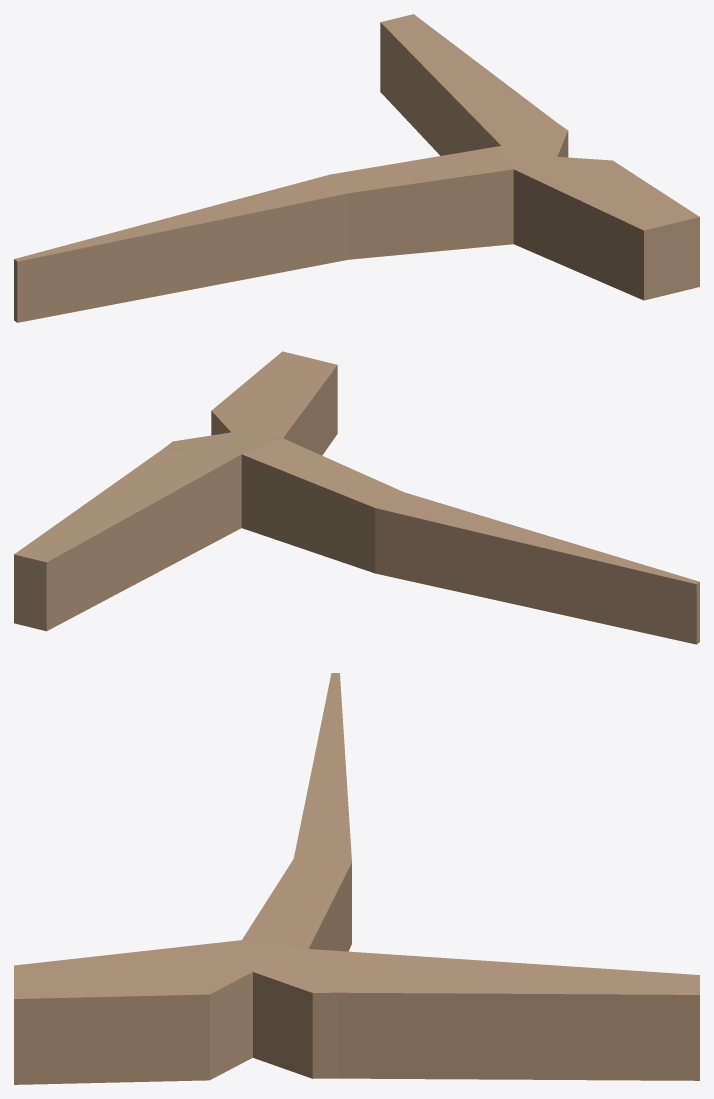
File: tBoneBone.fbx
The picture shows the model from 3 angles, top to bottom: view 1: azimuth 30°, elevation 25°; view 2: azimuth 150°, elevation 25°; view 3: azimuth 270°, elevation 25°; orthographic projection. The views are drawn at different scales.
Visible parts, largest first — view 1: tBoneBone; view 2: tBoneBone; view 3: tBoneBone.
Part boxes in pixels (<box>): tBoneBone: <box>14,14,699,322</box>; tBoneBone: <box>14,351,699,644</box>; tBoneBone: <box>14,673,699,1084</box>.
Bounding box in the file's own units: 32.59 × 4.22 × 28.51.
Materials: 1 (1 with a texture image).
